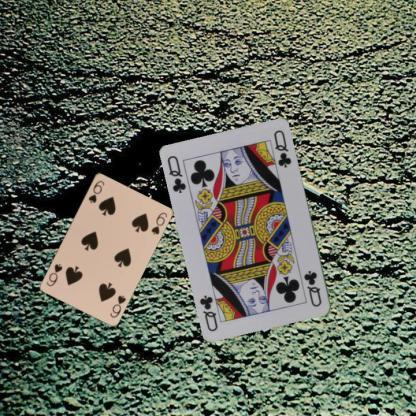6s: (107, 292, 128, 319), (86, 178, 106, 204)
Qc: (164, 153, 188, 195), (302, 268, 324, 309)
